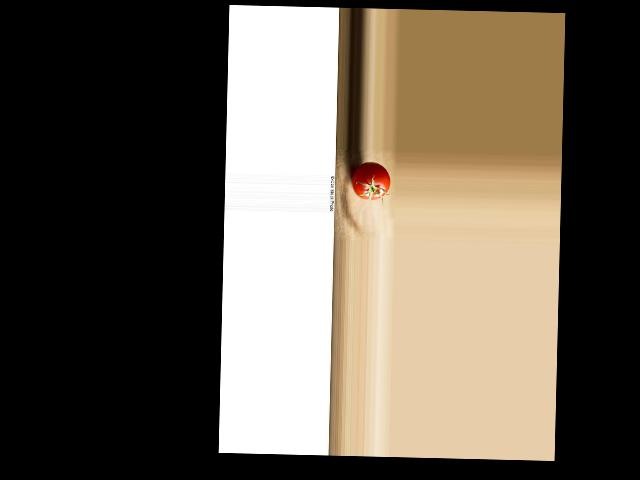tomato: (351, 162, 389, 201)
